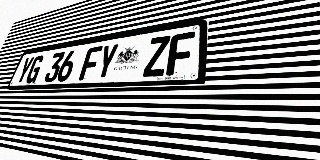3: (43, 52, 66, 83)
6: (55, 50, 79, 82)
F: (166, 31, 195, 76), (78, 46, 103, 81)
G: (24, 55, 45, 84)
Y: (94, 43, 120, 80), (15, 56, 35, 84)
Z: (143, 35, 171, 77)
